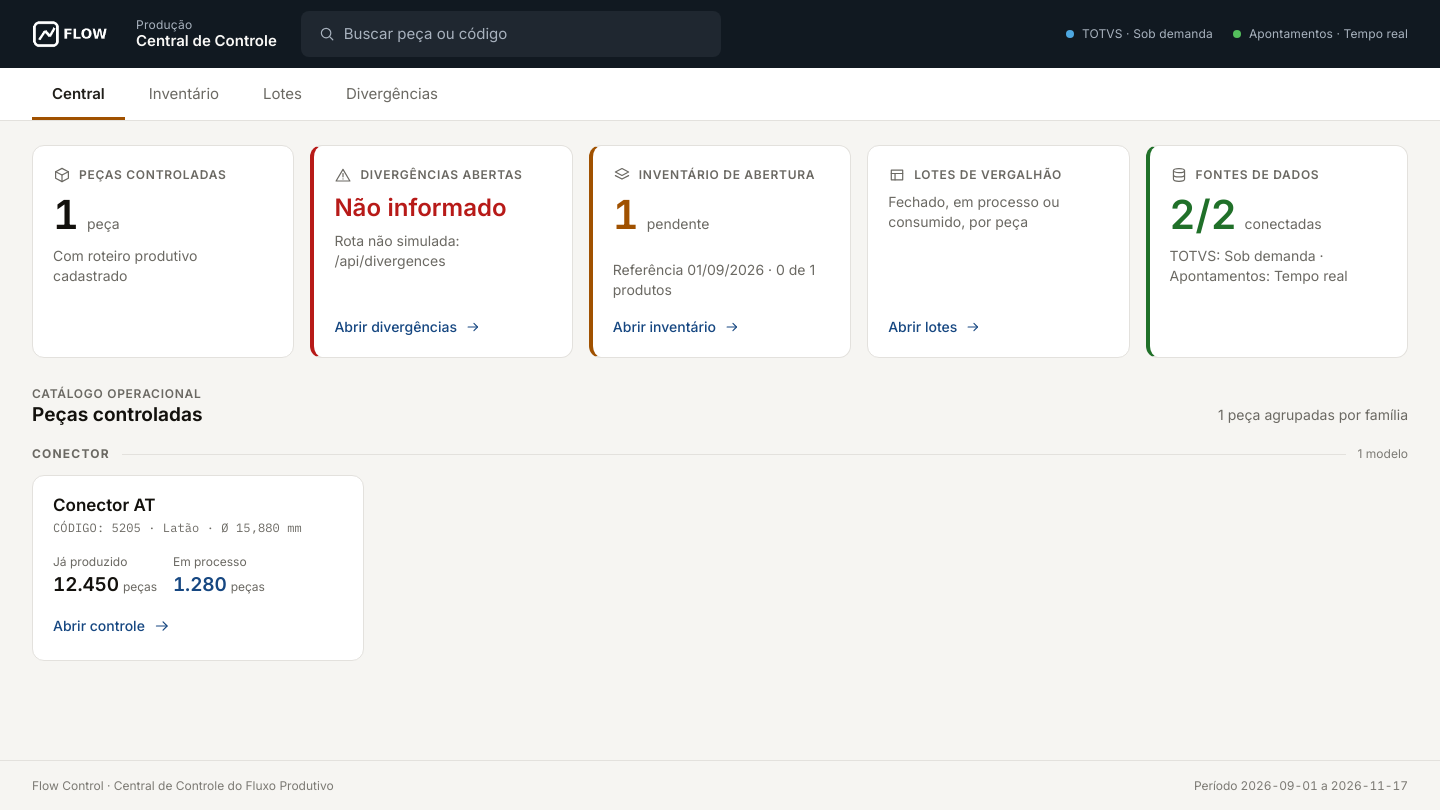
Test case: Central de Controle › mostra o inventário como pendente e permite abrir pelo atalho da Central
Click the button "Inventário de abertura".
click(727, 175)  # box [589,145,851,358]
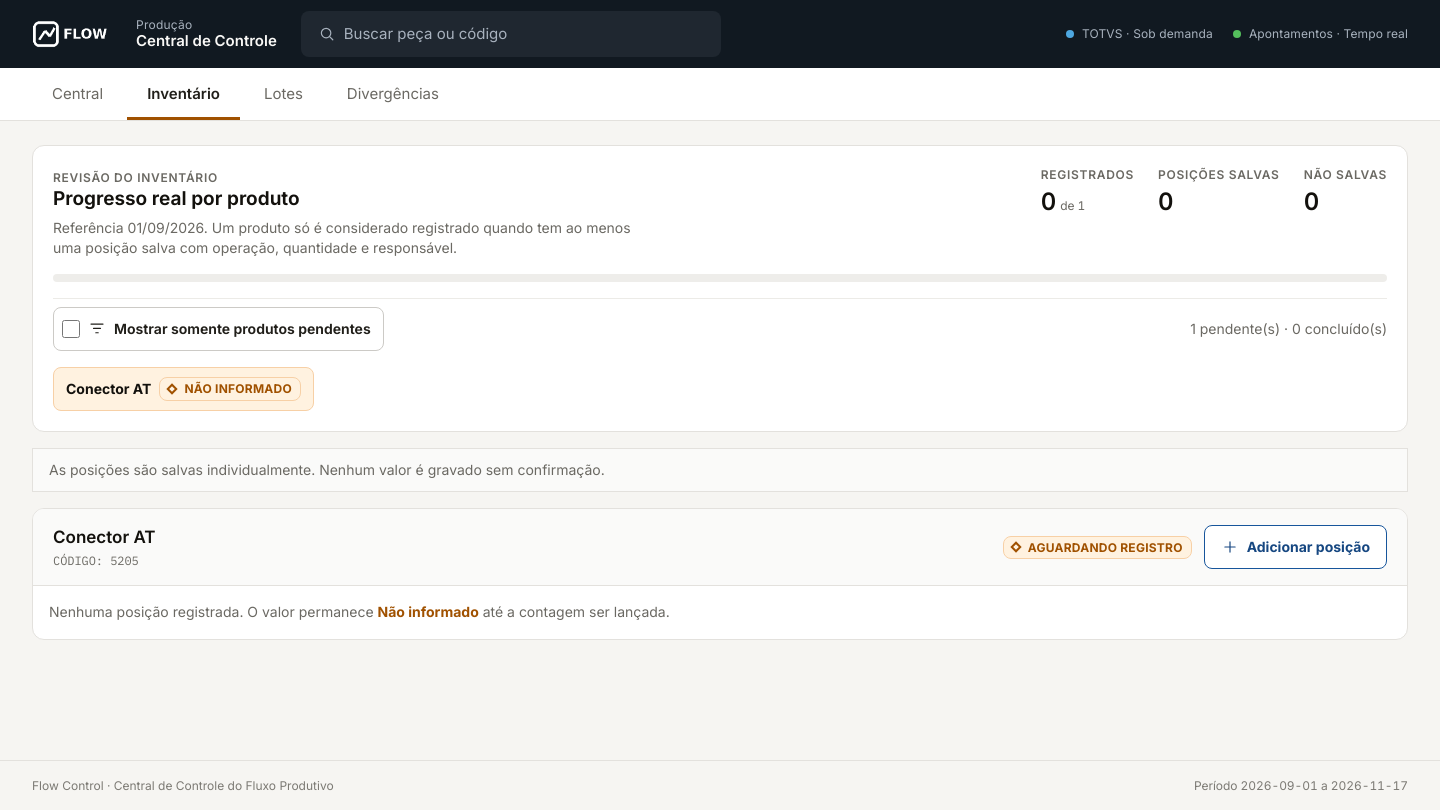
Expected: the heading "Progresso real por produto" is shown, [53,187,300,210]
